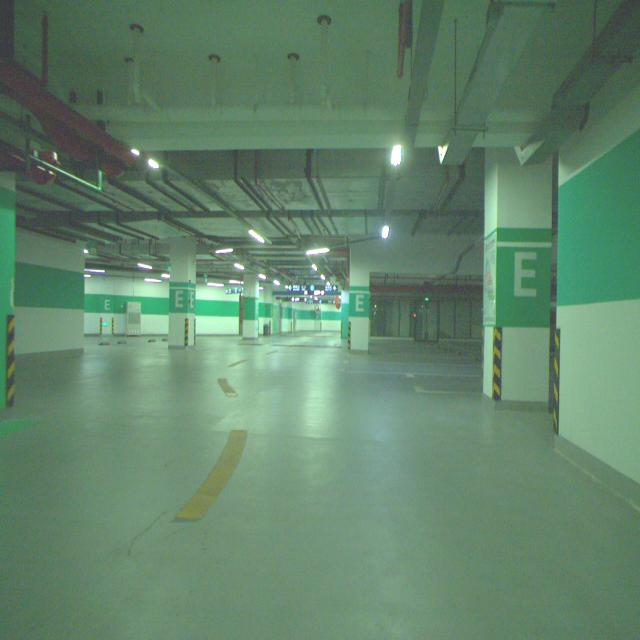pillar: (482, 148, 552, 405), (171, 249, 195, 345)
